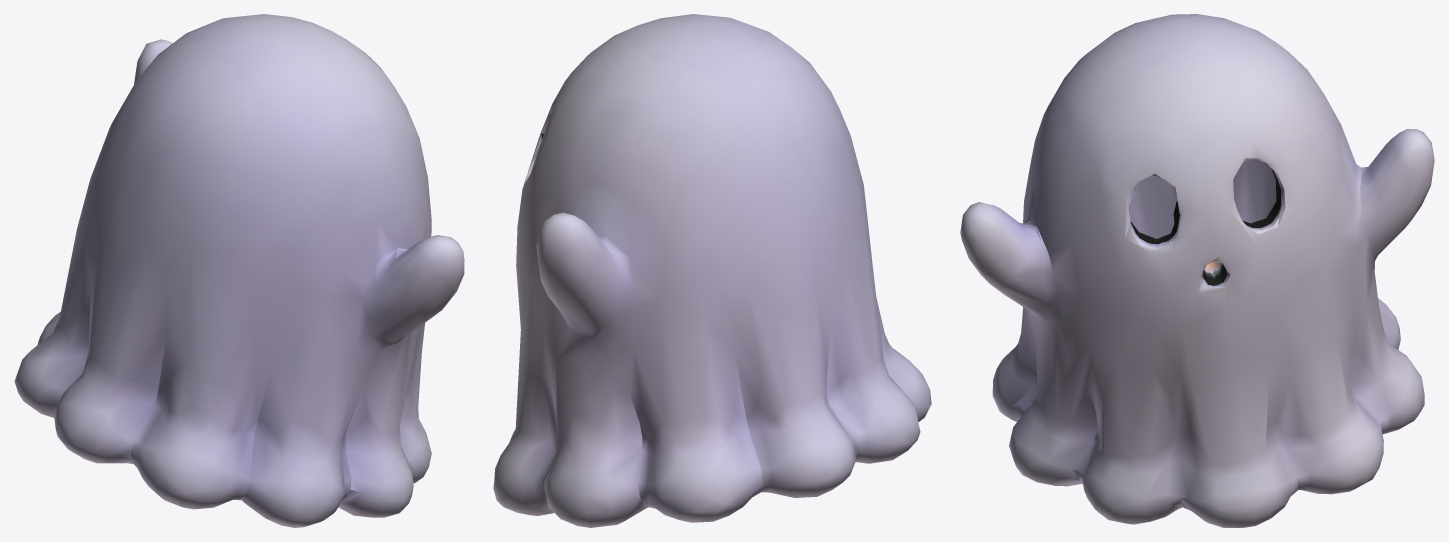
Rendered from E6_Boo_LOD1.fbx.
3 views of the same model, side by side, from view 1: azimuth 30°, elevation 25°; view 2: azimuth 150°, elevation 25°; view 3: azimuth 270°, elevation 25° (orthographic). The views are drawn at different scales.
Visible parts, largest first — view 1: E6_Boo_LOD1; view 2: E6_Boo_LOD1; view 3: E6_Boo_LOD1.
Boxes of the visible parts, bbox=[...] form: E6_Boo_LOD1: bbox=[14, 14, 464, 527]; E6_Boo_LOD1: bbox=[493, 14, 931, 527]; E6_Boo_LOD1: bbox=[960, 14, 1434, 527].
Size of the model in its own units: 0.1648 by 0.2001 by 0.1947.
1 material, 1 textured.
